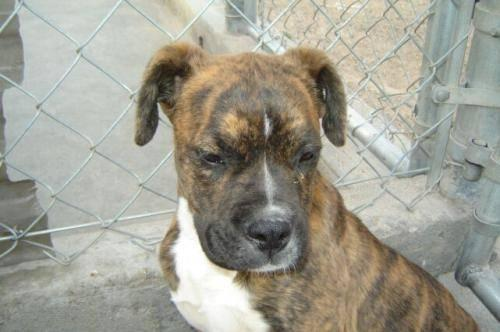dog: (135, 42, 478, 331)
